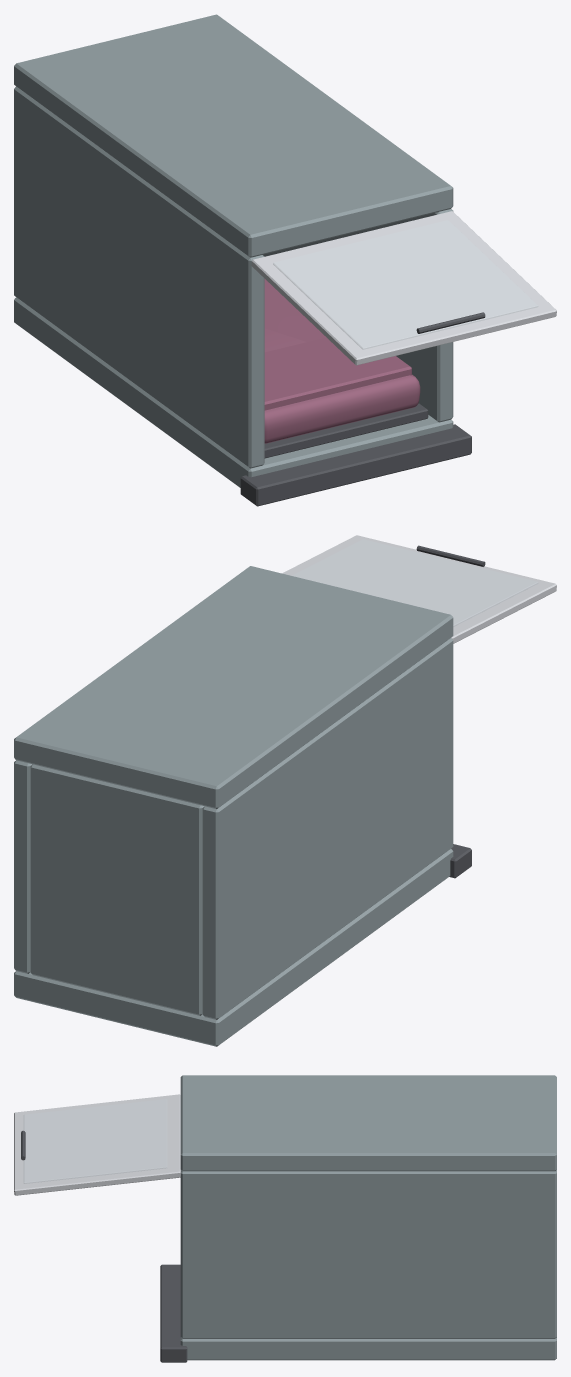
Rendered from cyberpunk-apartment-and-neon-block-capsule-bed-pod-ope-6179a1b8__37803.glb.
3 views of the same model, one above another, from view 1: azimuth 30°, elevation 25°; view 2: azimuth 150°, elevation 25°; view 3: azimuth 270°, elevation 25° (orthographic). The views are drawn at different scales.
Parts seen in each view (by area): view 1: capsule-bed-pod-open, flap (×2); view 2: capsule-bed-pod-open, flap (×2); view 3: capsule-bed-pod-open, flap (×2).
Boxes of the visible parts, left/top/right/bottom form: capsule-bed-pod-open: left=14, top=14, right=471, bottom=506; flap (×2): left=251, top=211, right=556, bottom=365; capsule-bed-pod-open: left=14, top=566, right=471, bottom=1046; flap (×2): left=282, top=535, right=556, bottom=643; capsule-bed-pod-open: left=160, top=1075, right=556, bottom=1362; flap (×2): left=14, top=1094, right=180, bottom=1195.
Bounding box in the file's own units: 1.18 × 1.36 × 3.23.
